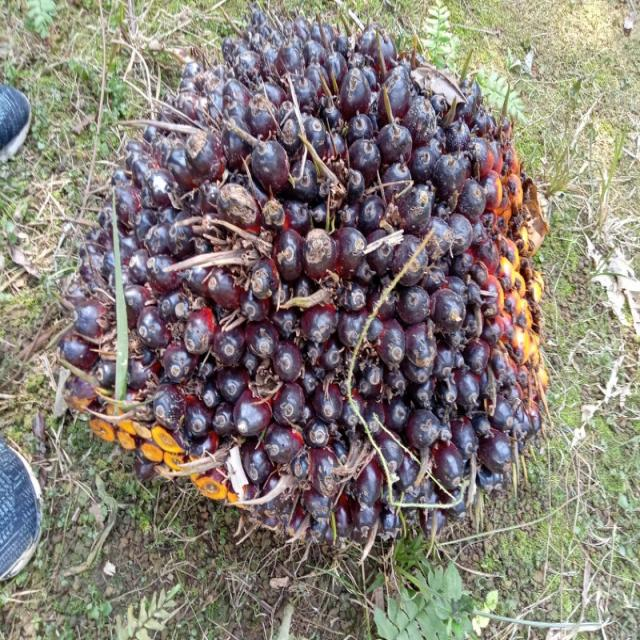fraksi 00: (43, 0, 573, 561)
